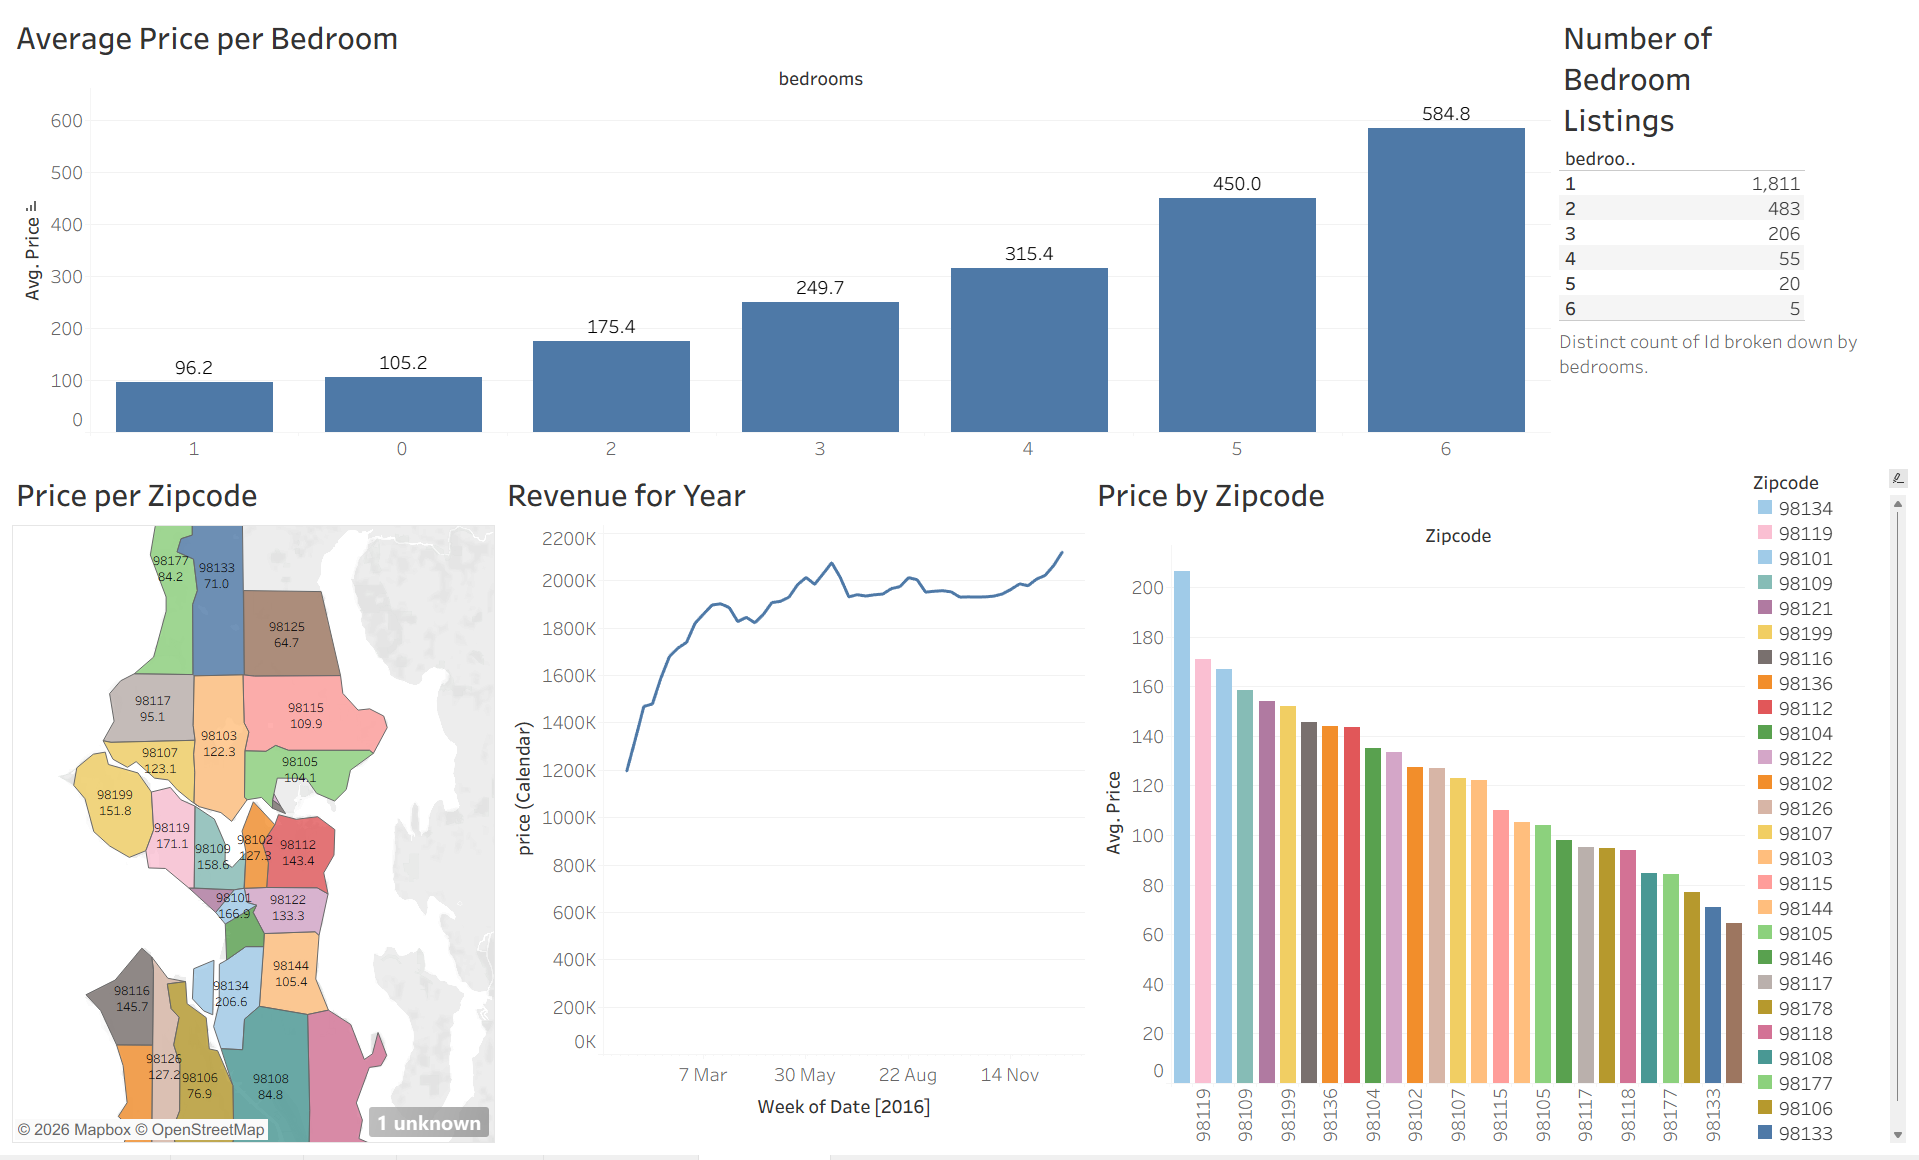

The page's visual inventory and layout, read from the dashboard file:
{"tool":"tableau","page":{"name":"Dashboard","canvas":[1000,1000],"units":"permille","ordinal":0},"visuals":[{"type":"worksheet","title":"Bedroom Price","mark":"Automatic","rows":["price"],"cols":["bedrooms"],"box":[4.2,8.6,805.6,394.2]},{"type":"worksheet","title":"Bedroom Count","mark":"Automatic","rows":["bedrooms"],"box":[809.9,8.6,185.9,394.2]},{"type":"worksheet","title":"Zipcode MAP","mark":"Multipolygon","box":[4.2,402.8,255.3,588.6]},{"type":"worksheet","title":"Revenue","mark":"Automatic","rows":["price (Calendar)"],"cols":["date"],"box":[259.6,402.8,306.5,588.6]},{"type":"worksheet","title":"Price Distribution","mark":"Automatic","rows":["price"],"cols":["zipcode"],"box":[566.1,402.8,343.1,588.6]},{"type":"legend","title":"Price Distribution","param":"[federated.00dwz3j0phualm111mtqc0xg1eji].[none:zipcode:ok]","box":[909.1,402.8,86.6,588.6]}]}

Visuals, with their boxes on the dashboard's canvas, which has no fixed pixel size, in thousandths of its width and height (x1, y1, x2, y2). These are canvas units, not pixel positions in the 1919x1160 screenshot, which may show the page scaled, cropped or inside an application window:
"Bedroom Price" worksheet: <bbox>4, 9, 810, 403</bbox>
"Bedroom Count" worksheet: <bbox>810, 9, 996, 403</bbox>
"Zipcode MAP" worksheet (Multipolygon marks): <bbox>4, 403, 260, 991</bbox>
"Revenue" worksheet: <bbox>260, 403, 566, 991</bbox>
"Price Distribution" worksheet: <bbox>566, 403, 909, 991</bbox>
"Price Distribution" legend: <bbox>909, 403, 996, 991</bbox>
